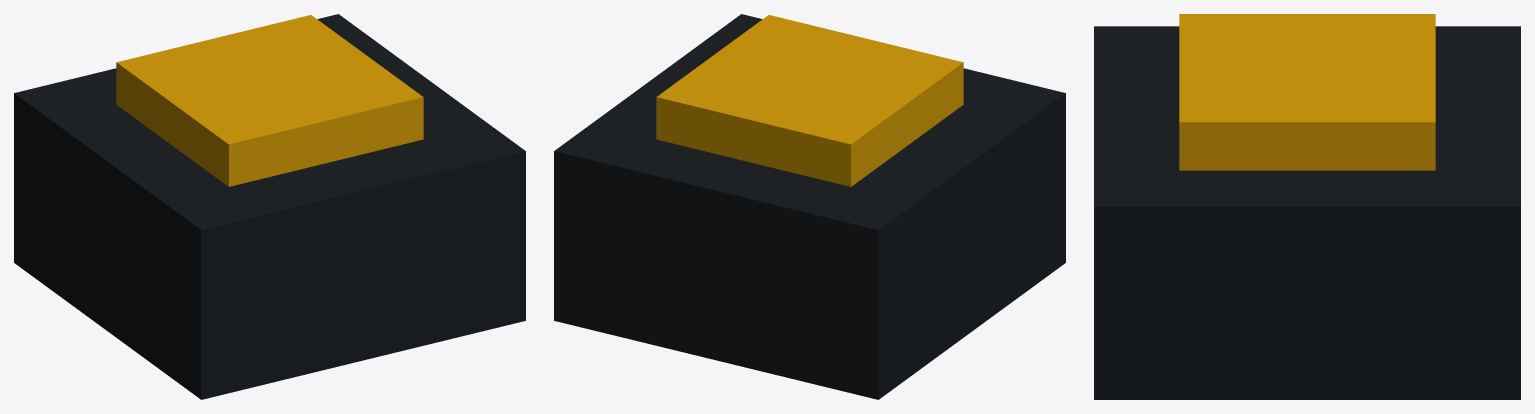
3 renders of one model, left to right at view 1: azimuth 30°, elevation 25°; view 2: azimuth 150°, elevation 25°; view 3: azimuth 270°, elevation 25°, orthographic. The views are drawn at different scales.
Parts seen in each view (by area): view 1: tool-body, interface; view 2: tool-body, interface; view 3: tool-body, interface.
Part boxes in pixels (bbox=[...]): tool-body: bbox=[14, 14, 525, 399]; interface: bbox=[116, 15, 423, 186]; tool-body: bbox=[554, 14, 1065, 399]; interface: bbox=[656, 15, 963, 186]; tool-body: bbox=[1094, 26, 1520, 399]; interface: bbox=[1179, 14, 1435, 170].
Size of the model in its own units: 0.2 by 0.125 by 0.2.
